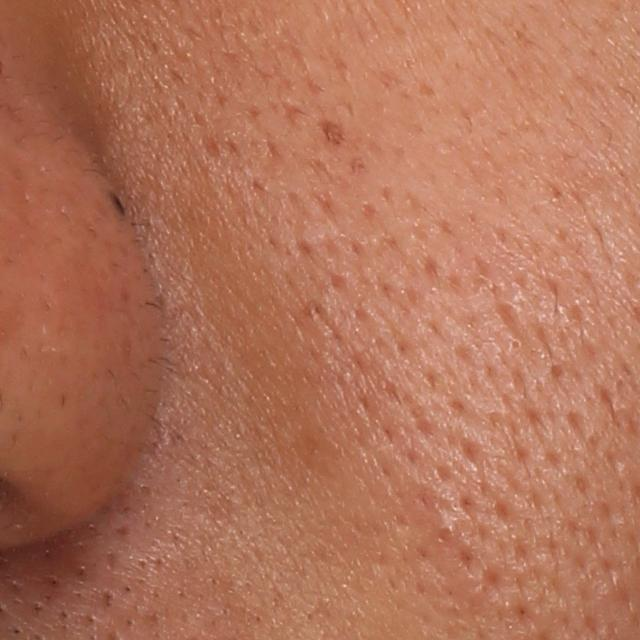atrophic_scar: (446, 254, 499, 300), (499, 299, 519, 333)
comedo: (507, 335, 527, 354)
